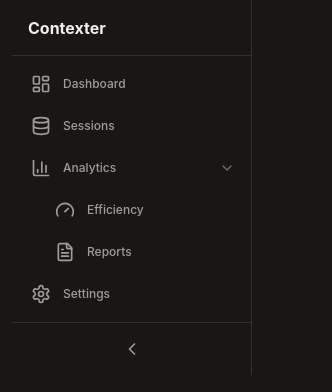
Scenario: SidebarNav › toggles collapse state when toggle button is clicked
What coordinates should you click on to do the following:
click the button named "Collapse sidebar"
I would click on:
 (132, 349)
Its box is [20, 331, 243, 367].
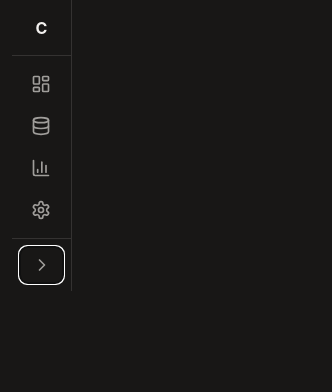
Expected: the button named "Expand sidebar" is shown
What coordinates should you click on to do the following:
click the button named "Expand sidebar"
I would click on:
 (42, 265)
Its box is [20, 247, 63, 283].
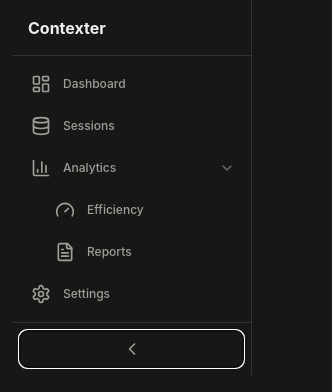
Expected: the button named "Collapse sidebar" is shown, [20, 331, 243, 367]
